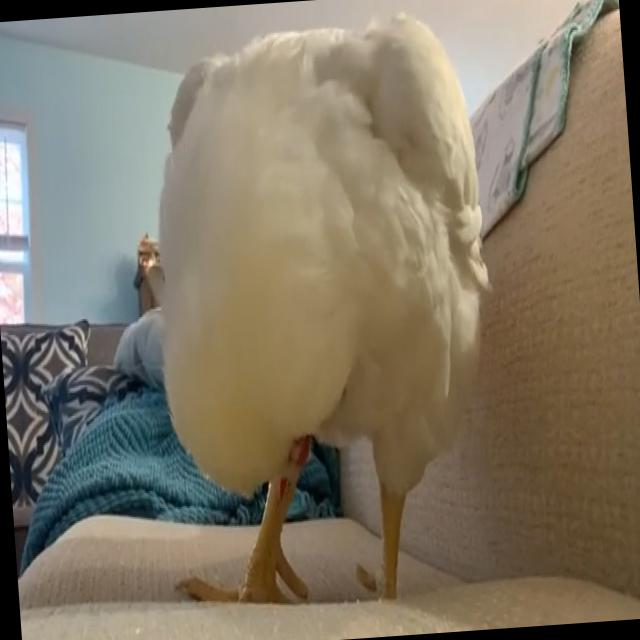self preening: (132, 0, 528, 611)
